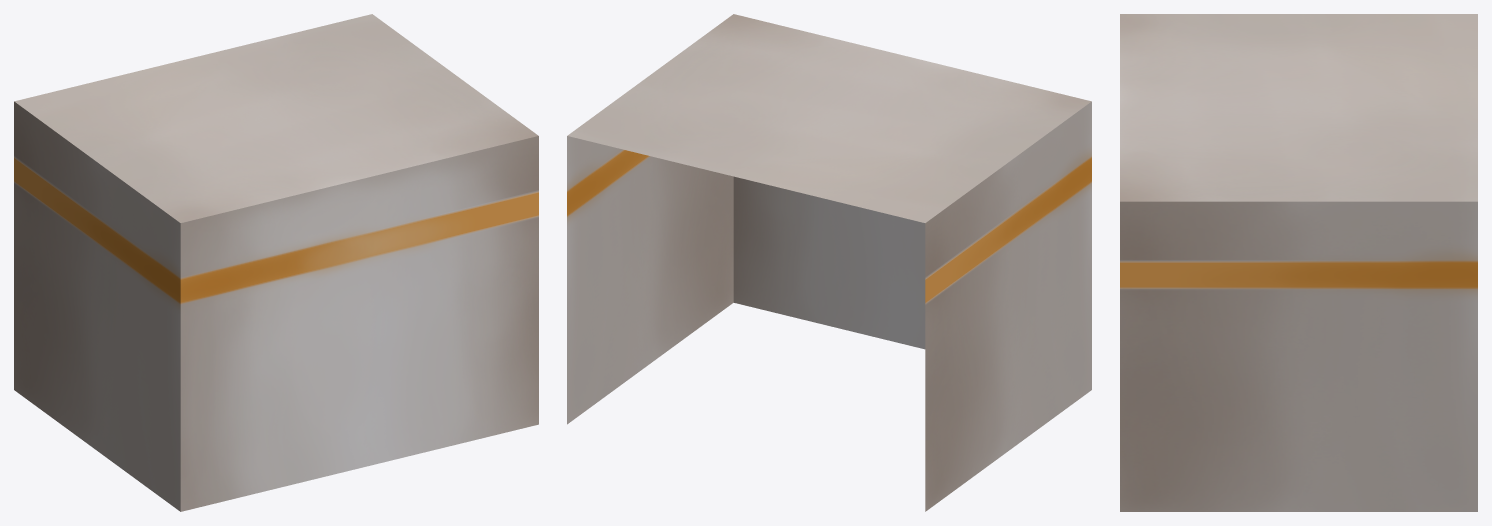
The model's file is SM_PIPETTETIB_yellow.FBX.
3 views of the same model, side by side, from view 1: azimuth 30°, elevation 25°; view 2: azimuth 150°, elevation 25°; view 3: azimuth 270°, elevation 25° (orthographic). The views are drawn at different scales.
Parts seen in each view (by area): view 1: PIPETTETIB_yellow; view 2: PIPETTETIB_yellow; view 3: PIPETTETIB_yellow.
Boxes of the visible parts, x1,y1,x2,y2 form: PIPETTETIB_yellow: (14,14,538,511); PIPETTETIB_yellow: (567,14,1091,511); PIPETTETIB_yellow: (1120,14,1477,511).
Size of the model in its own units: 57.27 by 44.12 by 46.12.
1 material, 1 textured.
